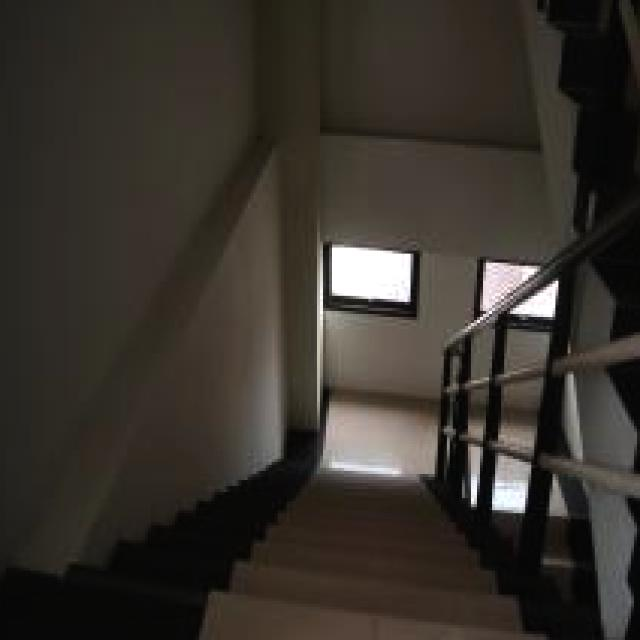downstair: (185, 457, 466, 640)
